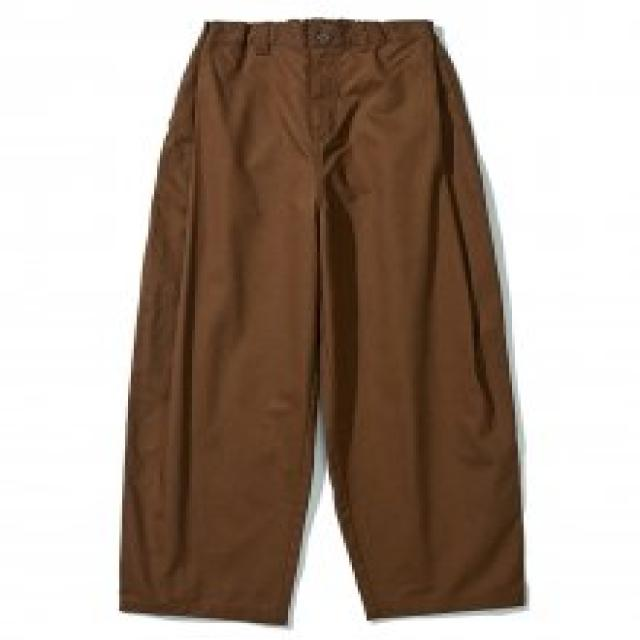long-pants: (118, 15, 531, 633)
